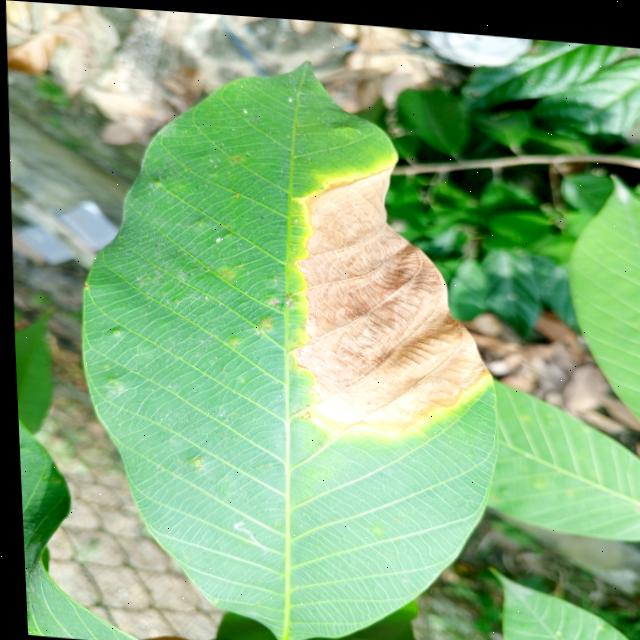Colletotrichum: (338, 221, 342, 224), (315, 223, 318, 225)
Leaf-Blight: (284, 151, 493, 438)
